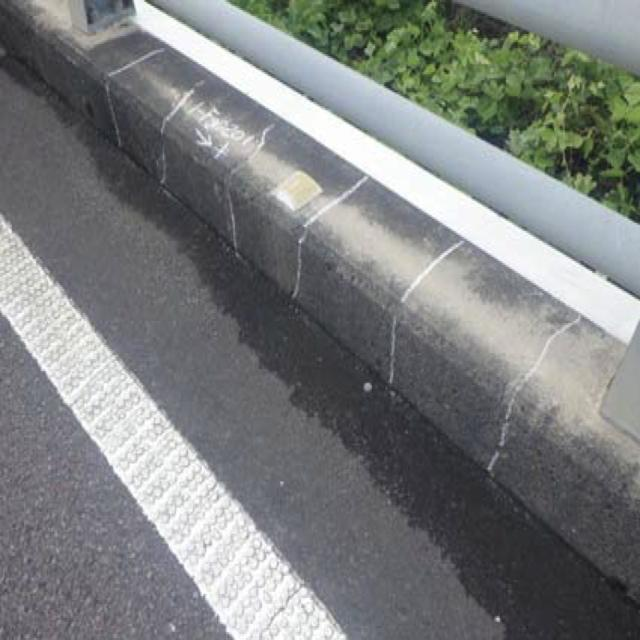crack: (200, 92, 276, 255)
